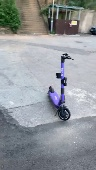beam: (48, 52, 77, 120)
